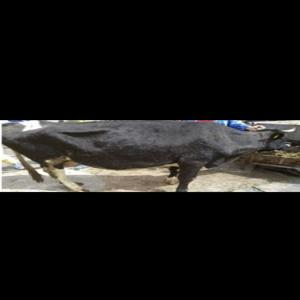lumpy skin diesease: (1, 119, 291, 192)
